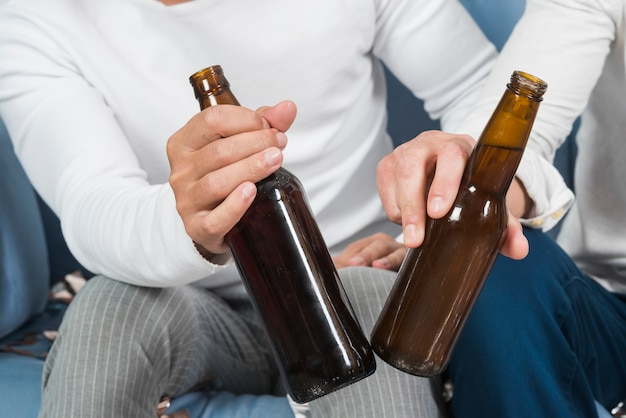alcohol: (187, 63, 380, 406), (367, 68, 548, 386)
